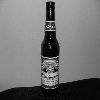beer: (38, 1, 65, 95)
